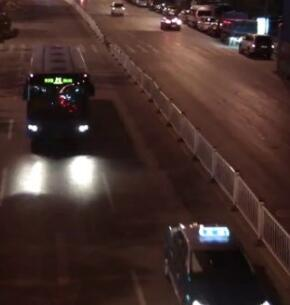bus: (18, 41, 99, 159)
car: (159, 218, 274, 302), (219, 10, 260, 43), (236, 33, 275, 61), (185, 3, 216, 26), (158, 13, 182, 32), (196, 14, 219, 32), (107, 2, 126, 17), (162, 4, 176, 15), (153, 3, 162, 14), (177, 9, 186, 19)
